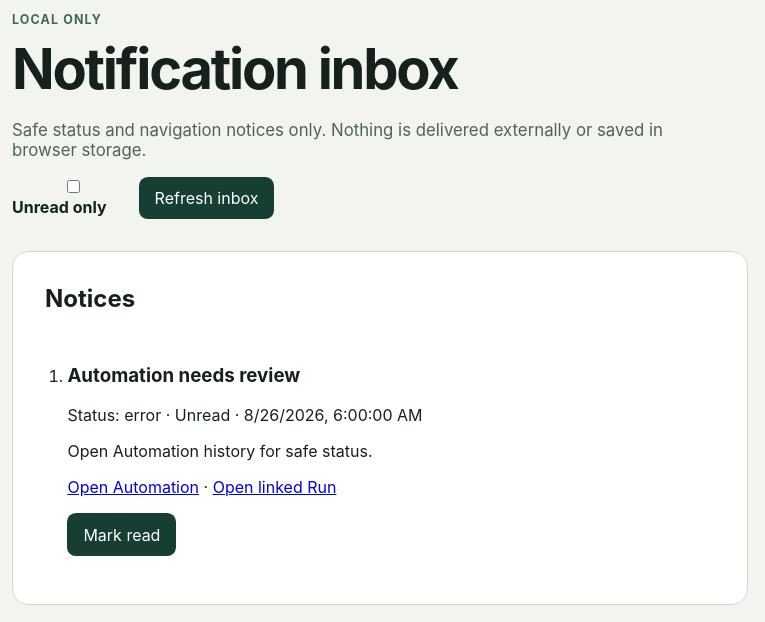
Test: Automations operator experience › renders a content-free inbox and repeated mark-read is an explicit action
Expected: the heading "Automation needs review" is shown, [67,364,300,387]
What coordinates should you click on to do the following:
click the button "Mark read"
I would click on:
 (122, 535)
Its box is [67,513,176,556].
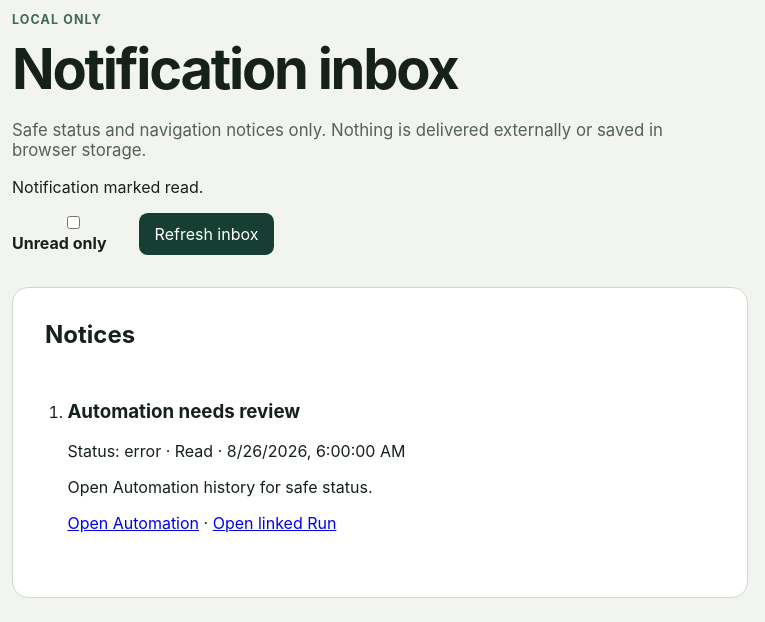
Now the text "Notification marked read." is shown, box [12,177,204,197]
Now the button "Mark read" is gone
